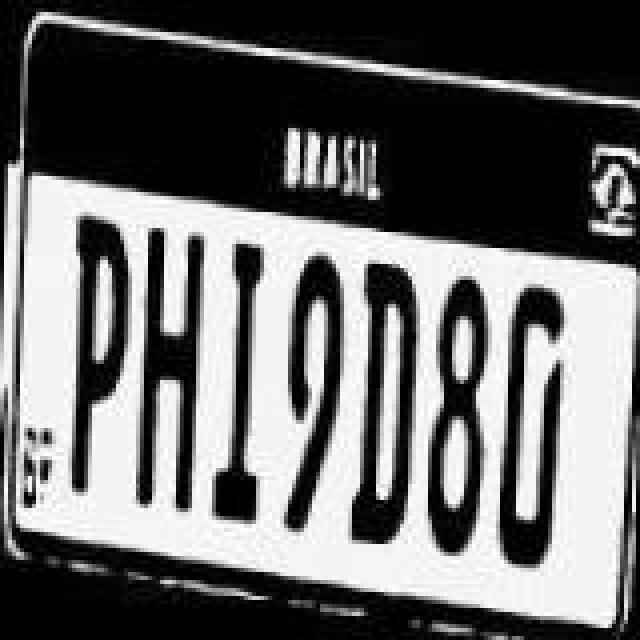8: (418, 268, 494, 556)
9: (272, 254, 356, 538)
D: (342, 254, 422, 542), (486, 286, 562, 578)
H: (122, 218, 210, 514)
I: (206, 228, 286, 520)
P: (56, 208, 132, 504)
